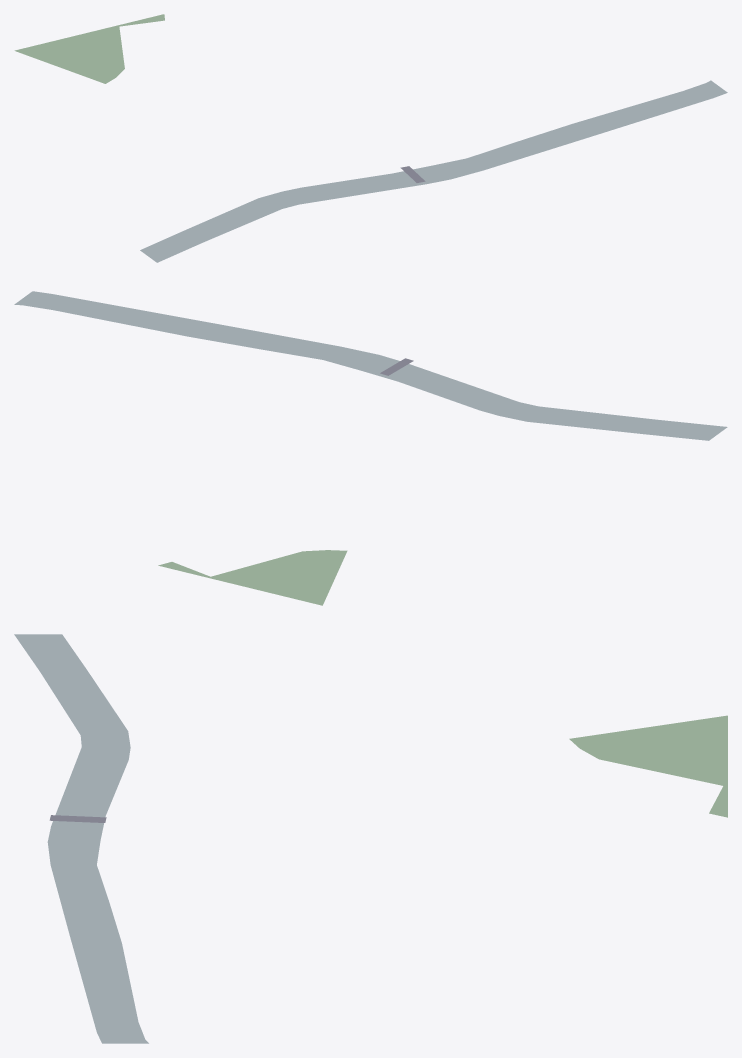
Rendered from 130_116_mid.glb.
3 renders of one model, top to bottom at view 1: azimuth 30°, elevation 25°; view 2: azimuth 150°, elevation 25°; view 3: azimuth 270°, elevation 25°, orthographic. The views are drawn at different scales.
Bounding box in the file's own units: 500 × 5.12 × 369.
